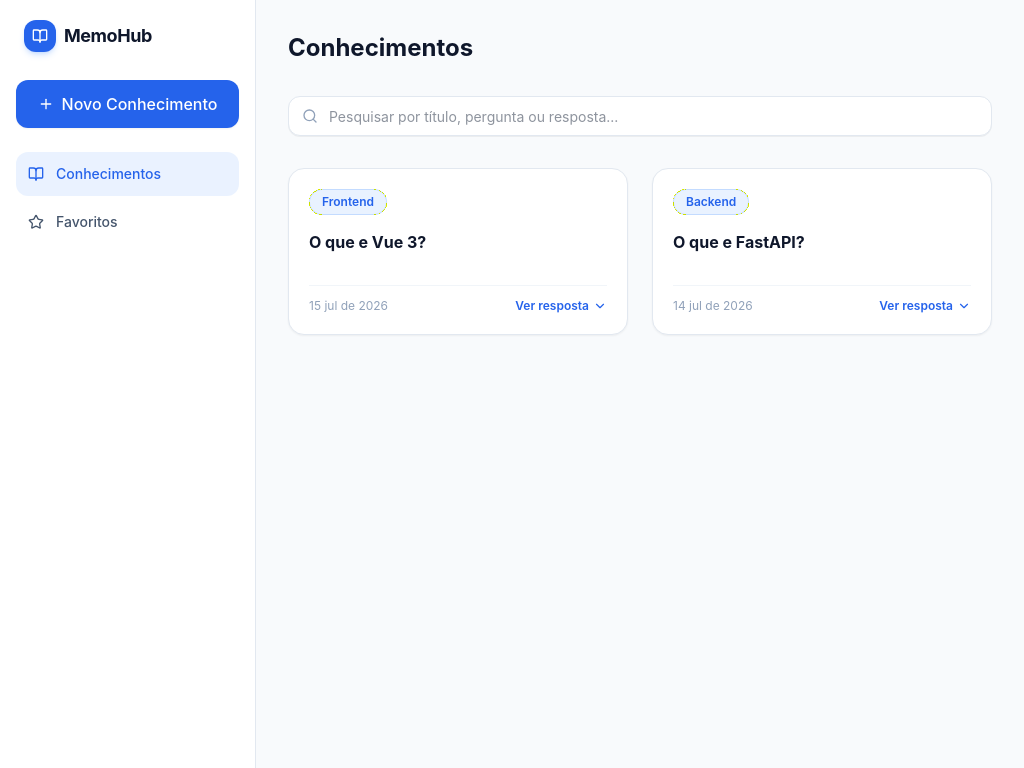
Scenario: KnowledgeListView.vue (Integration) › deve renderizar a modal de cadastro ao disparar o clique na Sidebar e injetar o registro criado na lista
Click the button "Novo Conhecimento" at (128, 104), box [16,80,239,128]
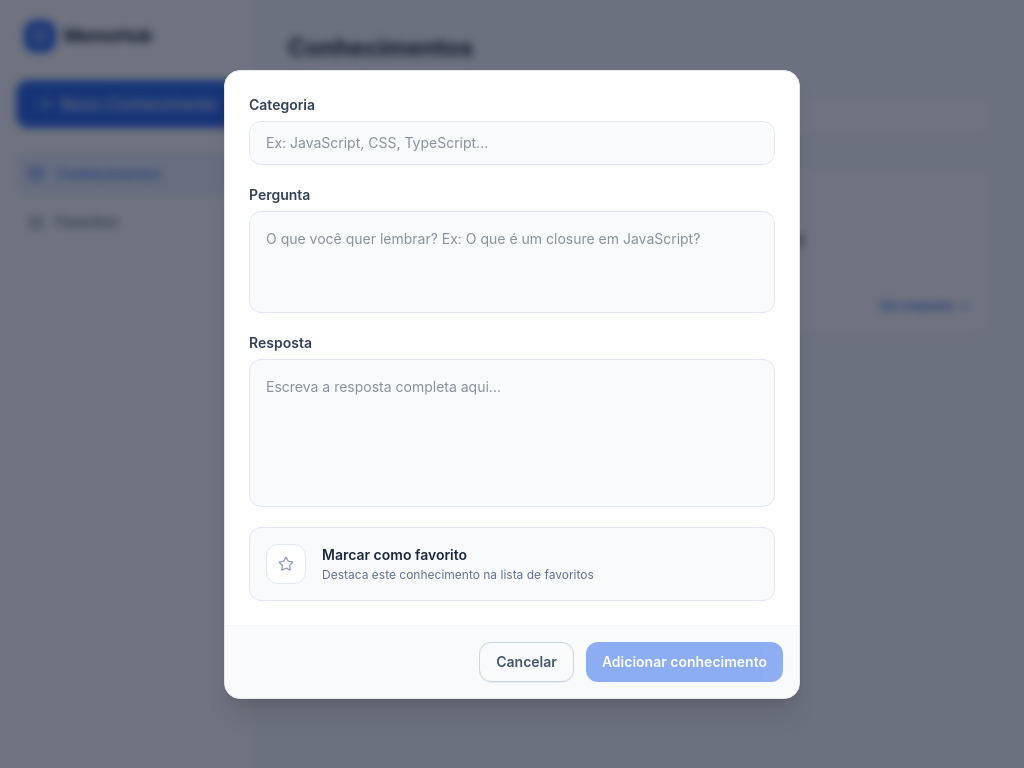
Expected: the element with class "inset-0" is shown
Type "DevOps" into the field with placeholder "Ex: JavaScript, CSS, TypeScript..." at (512, 142), box [249,120,775,164]
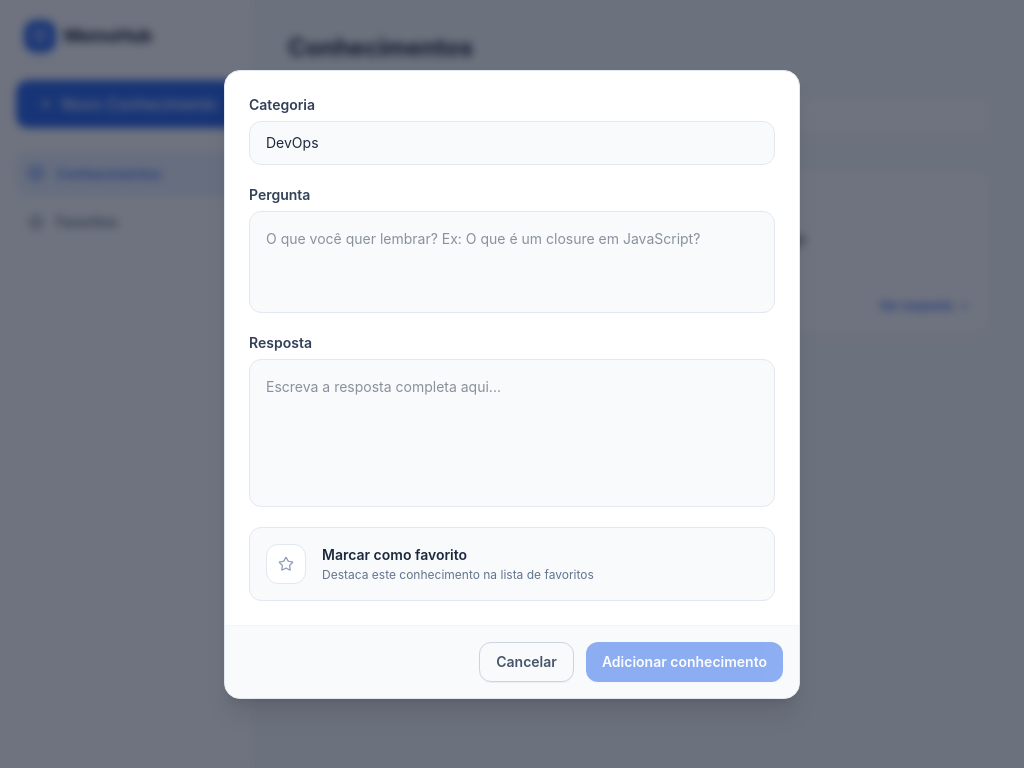
Replace the text in the 1st text box with "O que e Docker?" at (512, 262), box [249,210,775,313]
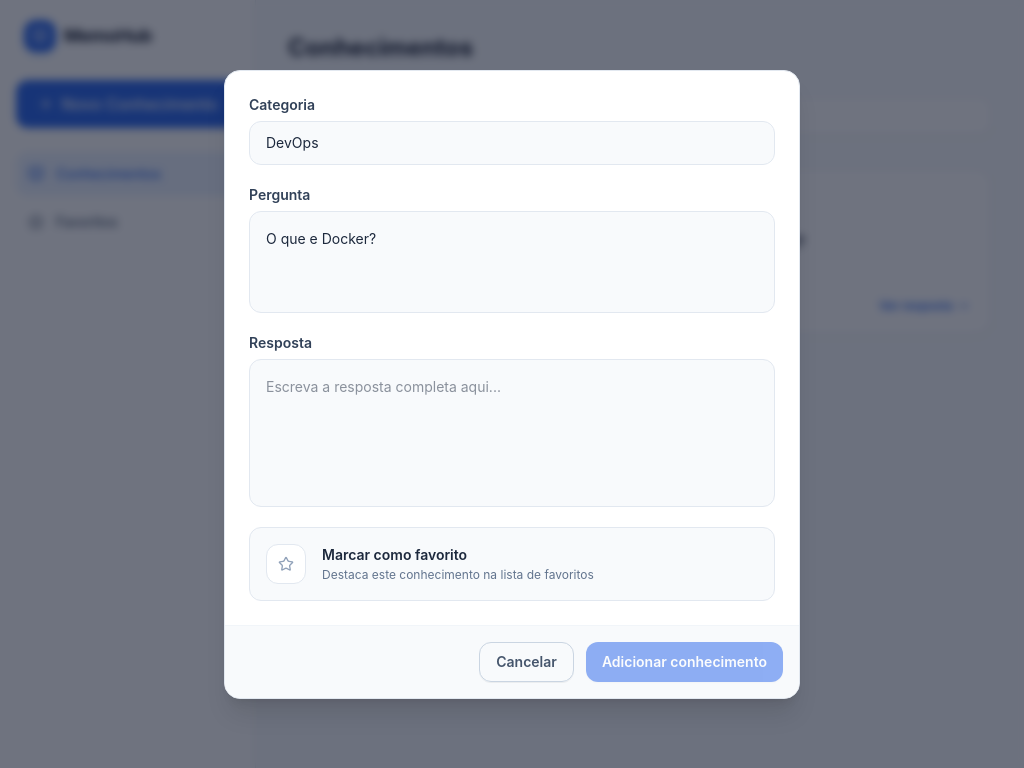
Type "Plataforma de conteinerizacao." into the text box with placeholder "Escreva a resposta completa aqui..." at (512, 433), box [249,359,775,507]
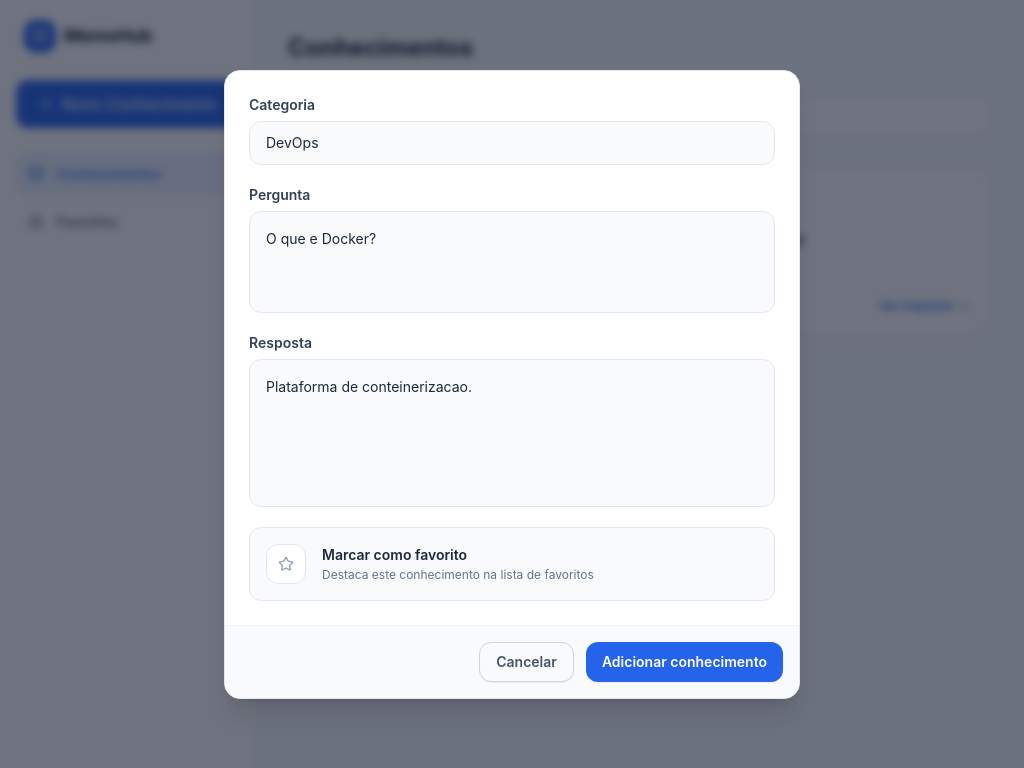
Click the button "Adicionar conhecimento" at (684, 662), box [586,642,783,682]
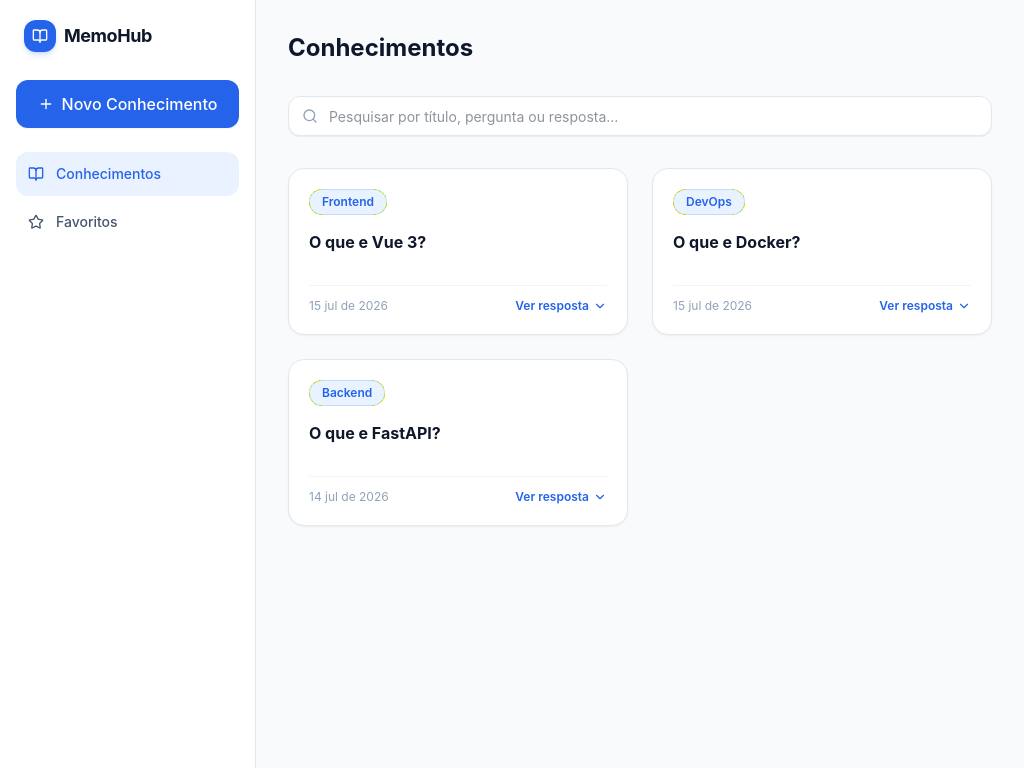
Expected: the text "O que e Docker?" is shown, [673,232,800,252]
